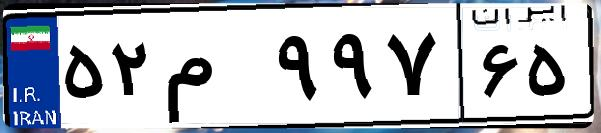2: (110, 28, 158, 98)
5: (57, 26, 110, 100), (525, 38, 570, 115)
6: (475, 38, 525, 113)
7: (385, 28, 445, 110)
9: (270, 28, 330, 110), (330, 28, 385, 110)
م: (158, 20, 270, 120)
